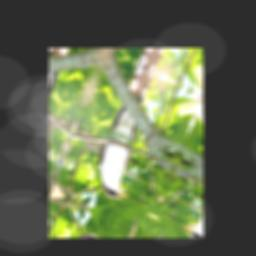Cuckoo: (83, 62, 179, 208)
